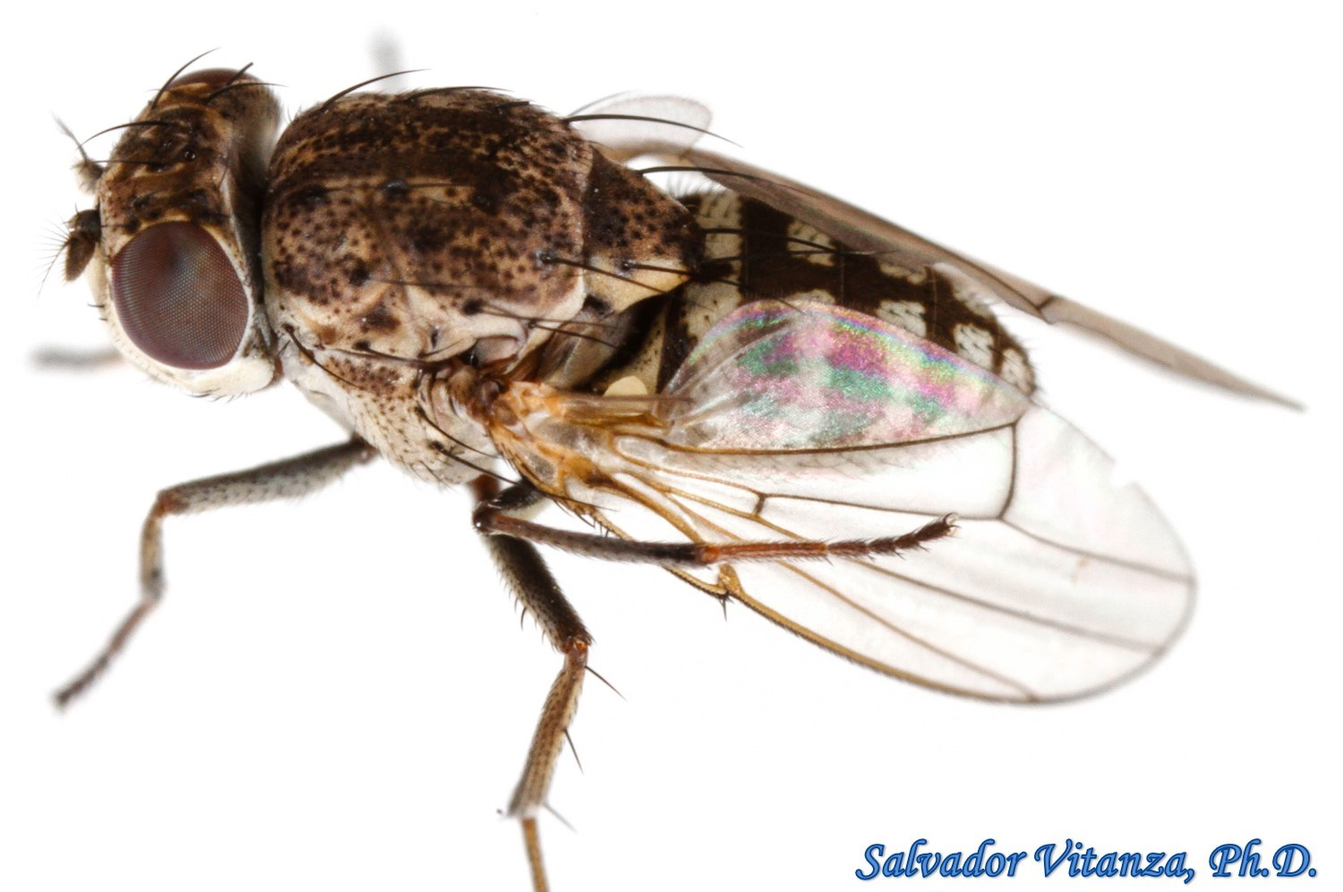Ephydridae: (51, 39, 1307, 888)
